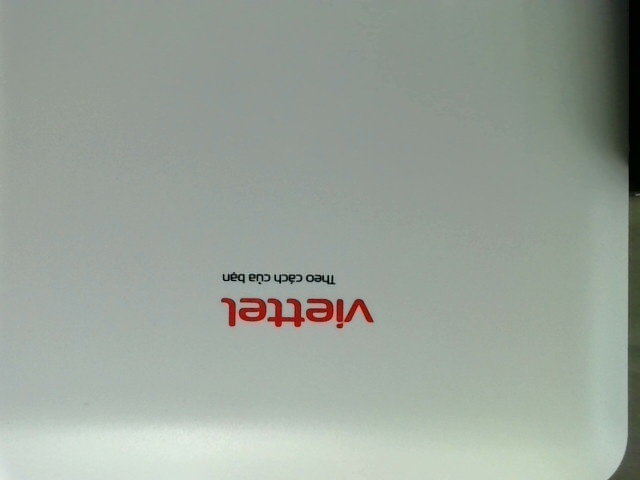AY_Viettel: (211, 261, 404, 339)
